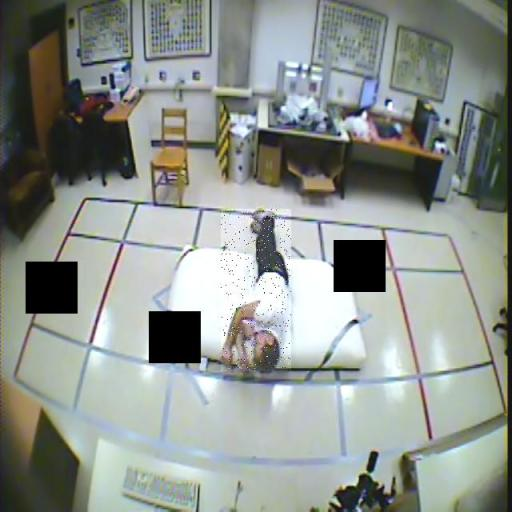Fall: (221, 209, 291, 371)
